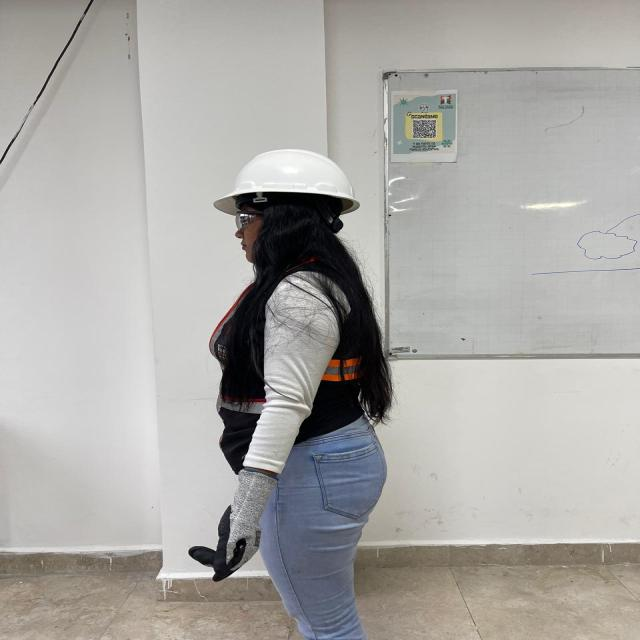protective_glasses: (234, 210, 280, 234)
